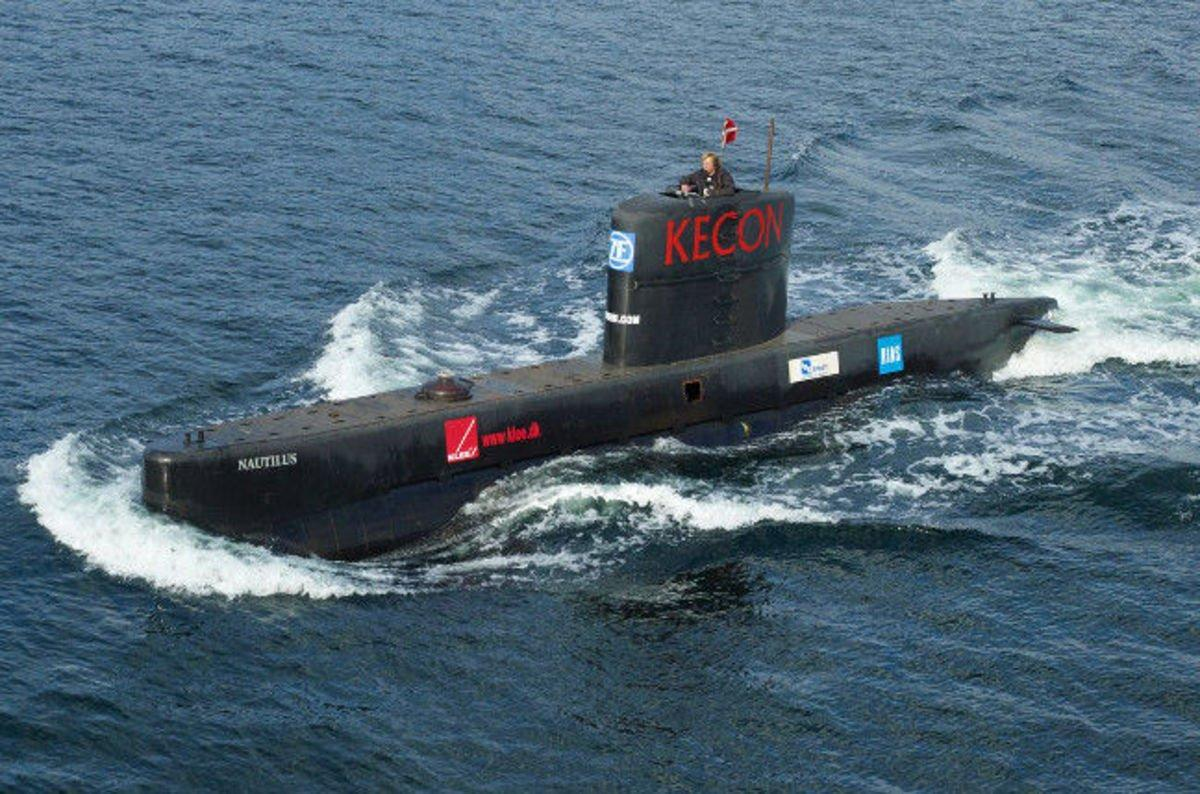Submarine: (32, 66, 1200, 636)
